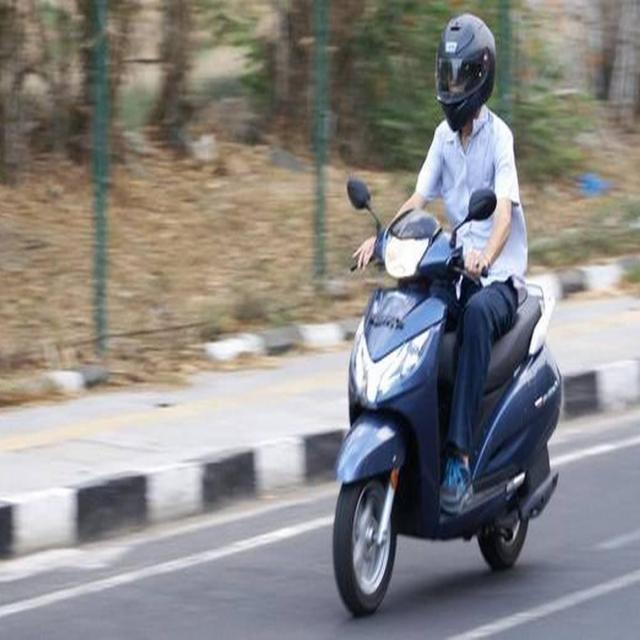helmet: (429, 12, 497, 117)
